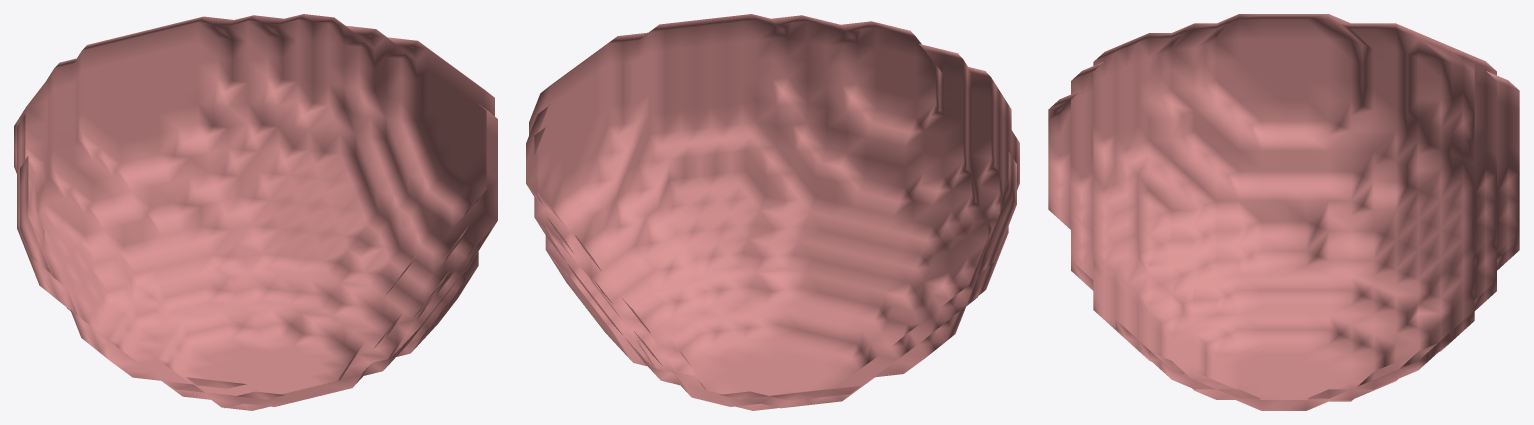
The model's file is 199535_occ.glb.
3 renders of one model, left to right at view 1: azimuth 30°, elevation 25°; view 2: azimuth 150°, elevation 25°; view 3: azimuth 270°, elevation 25°, orthographic.
Parts seen in each view (by area): view 1: world; view 2: world; view 3: world.
Part boxes in pixels (x1,y1,x2,y2): world: [14, 14, 497, 410]; world: [526, 14, 1019, 410]; world: [1048, 14, 1519, 410].
Size of the model in its own units: 2.1 by 1.3 by 2.1.
